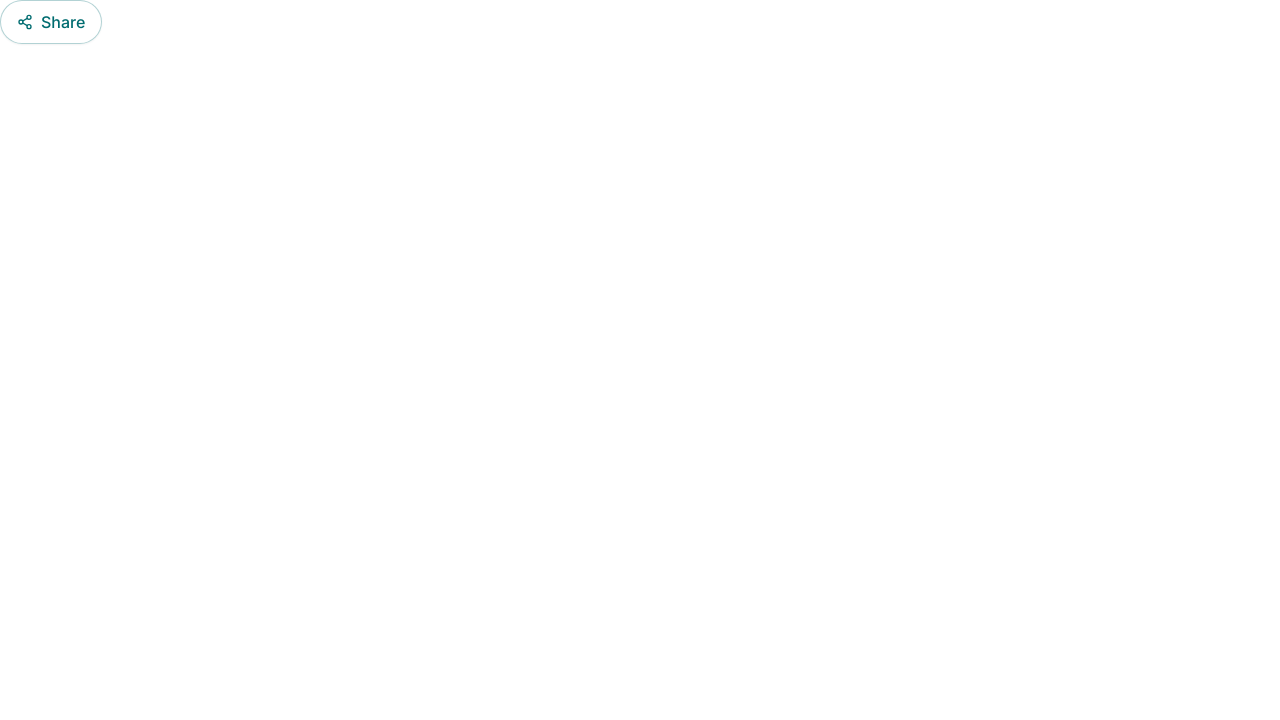
Test: PageShareButton › opens the dialog, shows the current URL, and closes again
What coordinates should you click on to do the following:
click the button with aria-label "share page"
I would click on:
 (51, 22)
Its box is [0,0,102,44].
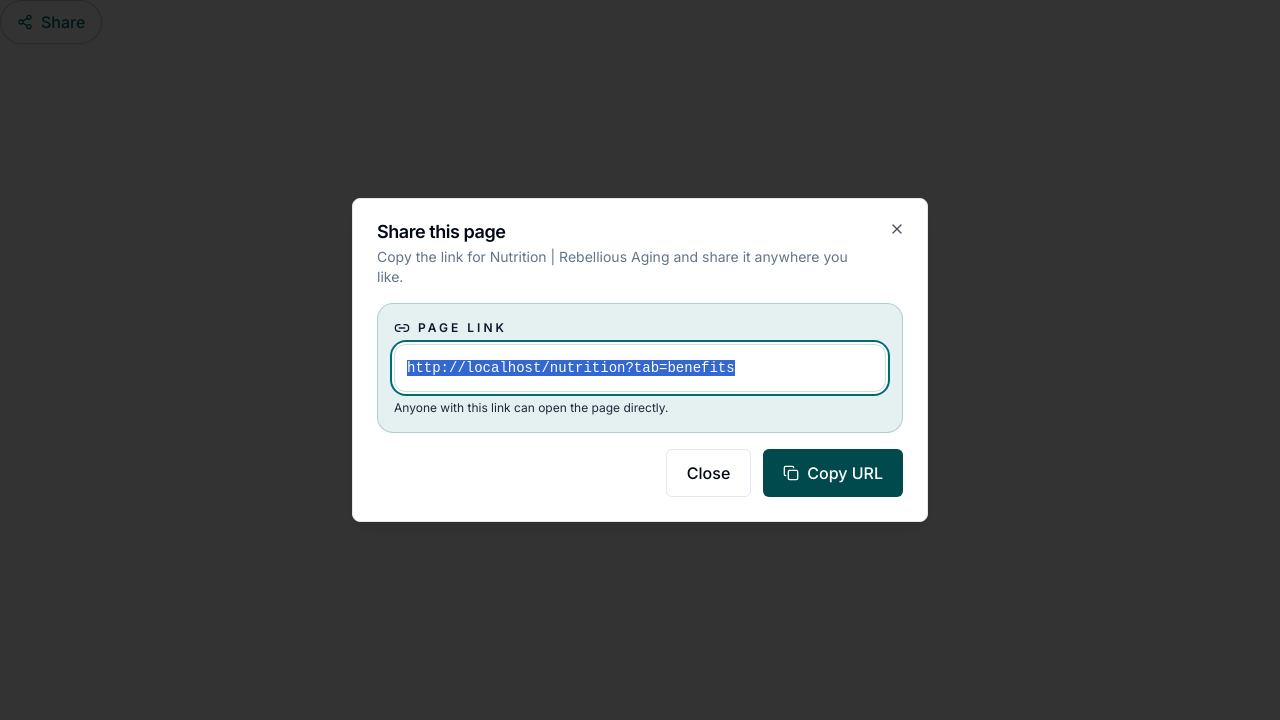
Expected: the dialog is shown, [352,198,928,522]
What coordinates should you click on to do the following:
click the button "Close"
I would click on:
 (709, 473)
Its box is [666,449,751,497].
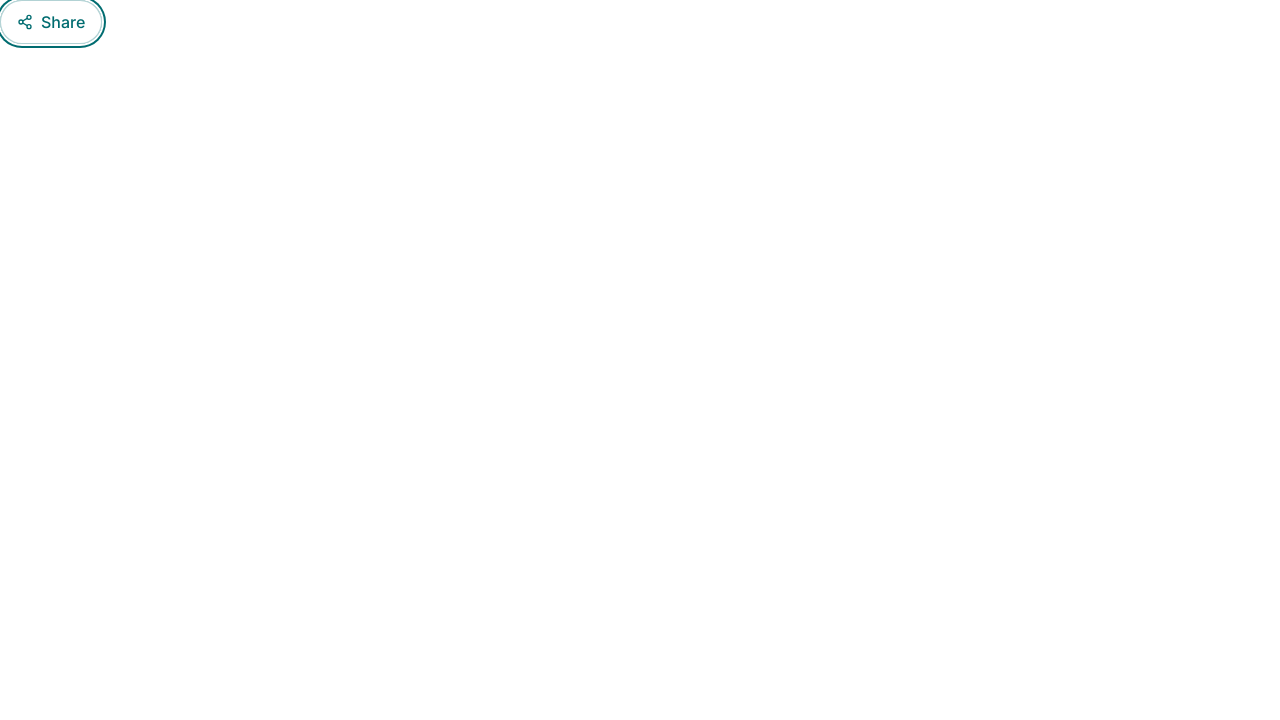
Expected: the dialog is gone
